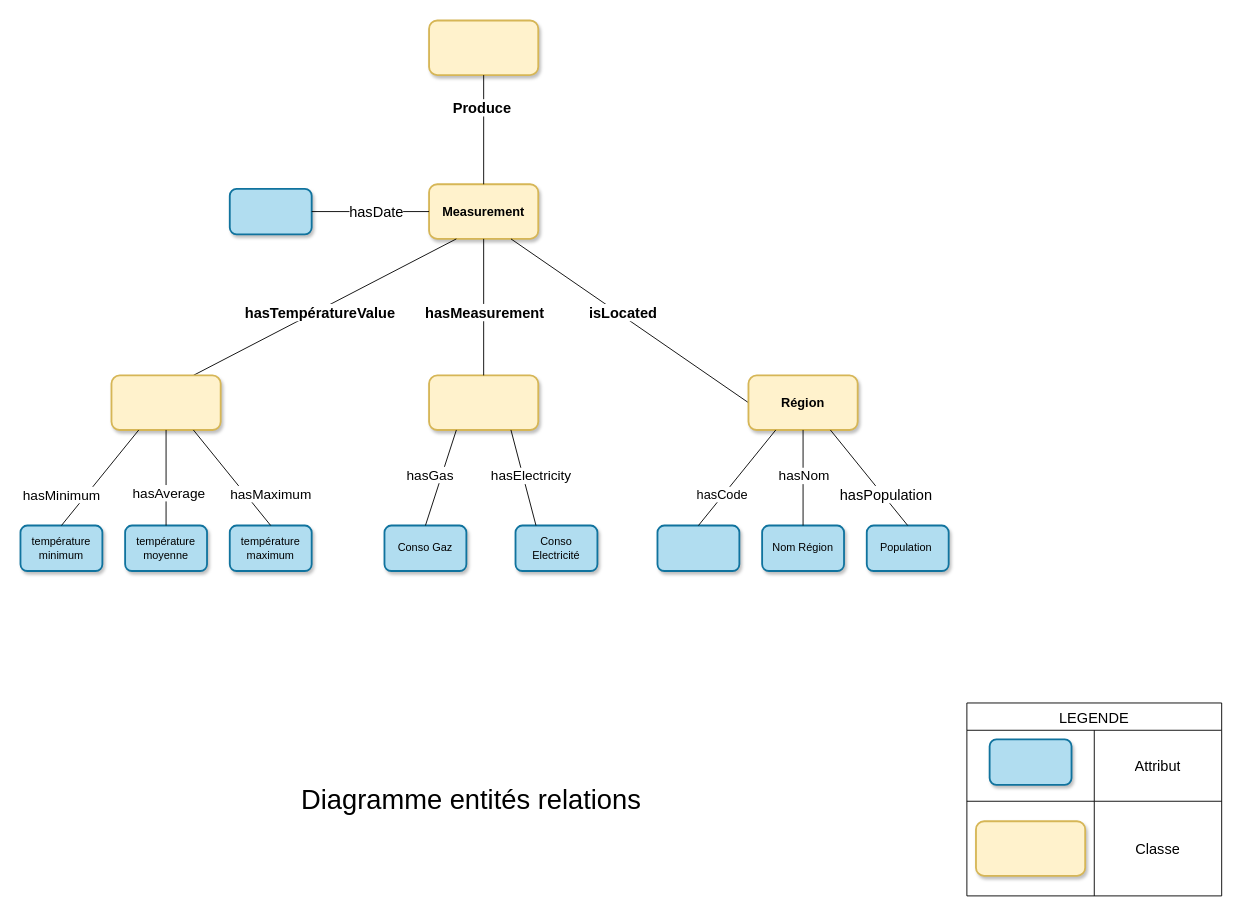
Some shapes in this 1238 by 912 pixel diagram are drawn without their labels. The centre of each missing label's shape, as x and y in pixels:
"Code_Insee Région" belongs at [698,549].
"Date" belongs at [271,212].
"Energie" belongs at [484,403].
"Organisme" belongs at [484,48].
"Température" belongs at [166,403].
